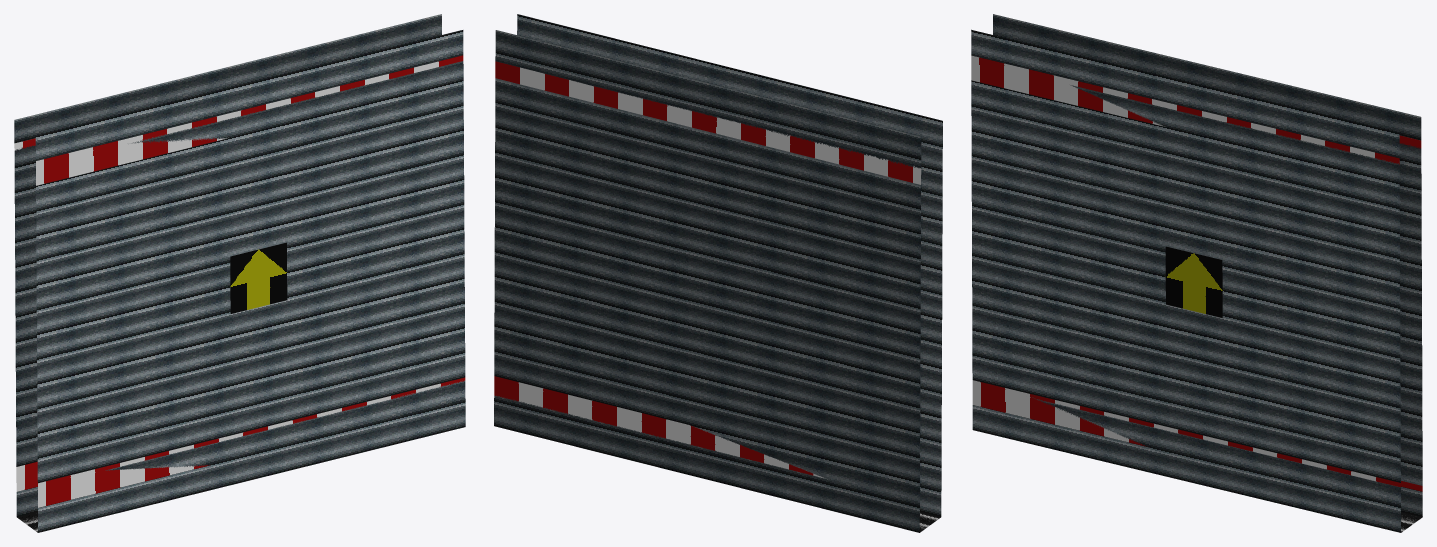
File: primary_37.glb
The picture shows the model from 3 angles, left to right: view 1: azimuth 30°, elevation 25°; view 2: azimuth 150°, elevation 25°; view 3: azimuth 330°, elevation 25°; orthographic projection.
Parts seen in each view (by area): view 1: Object; view 2: Object; view 3: Object.
Part boxes in pixels (<box>): Object: <box>14,14,465,532</box>; Object: <box>494,14,942,532</box>; Object: <box>971,14,1422,532</box>.
Size of the model in its own units: 4.59 by 4.09 by 0.4199.
6 materials, 6 textured.
